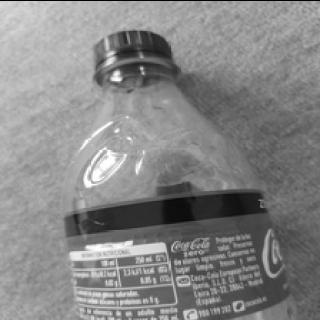plastic_bottles: (64, 25, 298, 319)
